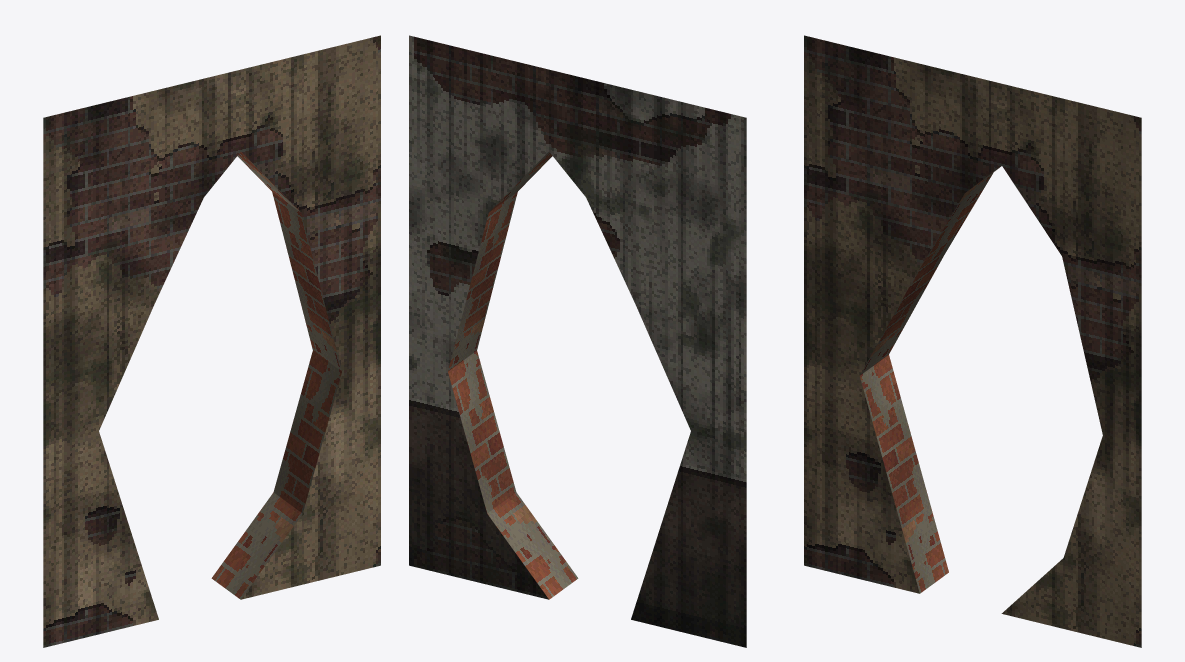
The model's file is ext_wall_breach.gltf.
3 views of the same model, side by side, from view 1: azimuth 30°, elevation 25°; view 2: azimuth 150°, elevation 25°; view 3: azimuth 330°, elevation 25° (orthographic).
Visible parts, largest first — view 1: ext_wall_breach-col; view 2: ext_wall_breach-col; view 3: ext_wall_breach-col.
Part boxes in pixels (left/top/right/bottom): ext_wall_breach-col: left=43, top=35, right=380, bottom=647; ext_wall_breach-col: left=409, top=35, right=746, bottom=647; ext_wall_breach-col: left=804, top=35, right=1141, bottom=647.
Bounding box in the file's own units: 2 × 3 × 0.3.
Materials: 3 (3 with a texture image).
